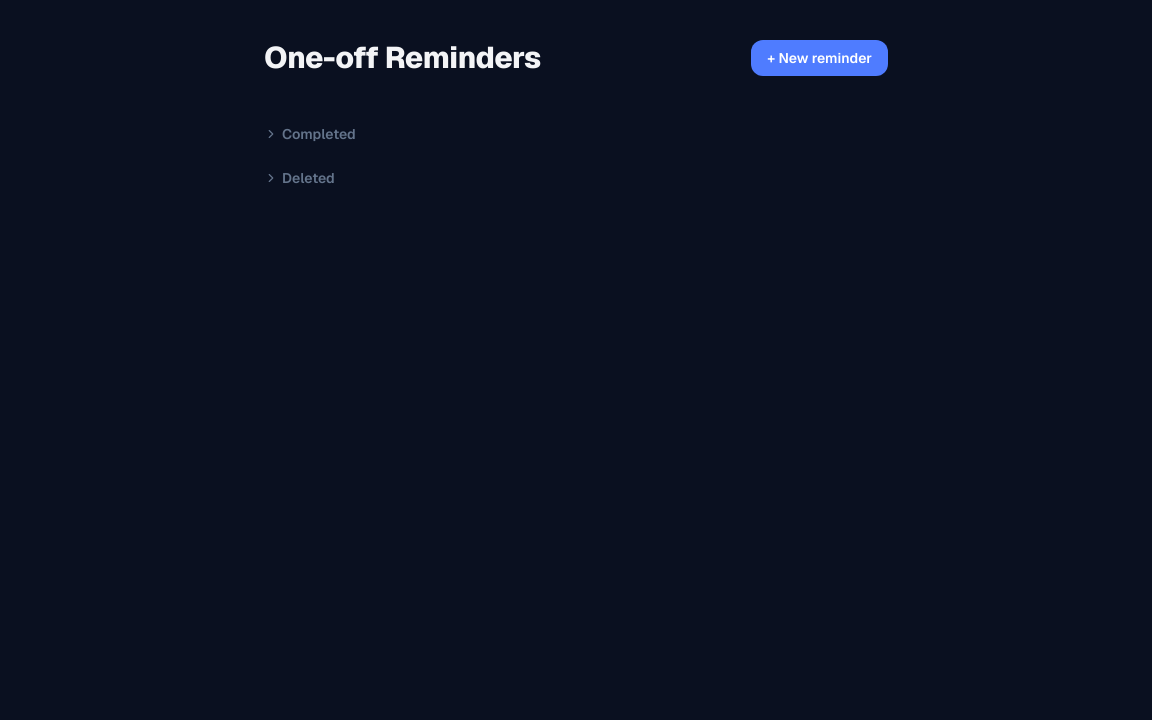
it: sets a standalone reminder with Later, saving only on Save
Step 1. Click the button "+ New reminder" → x=820, y=58, box [751,40,888,76]
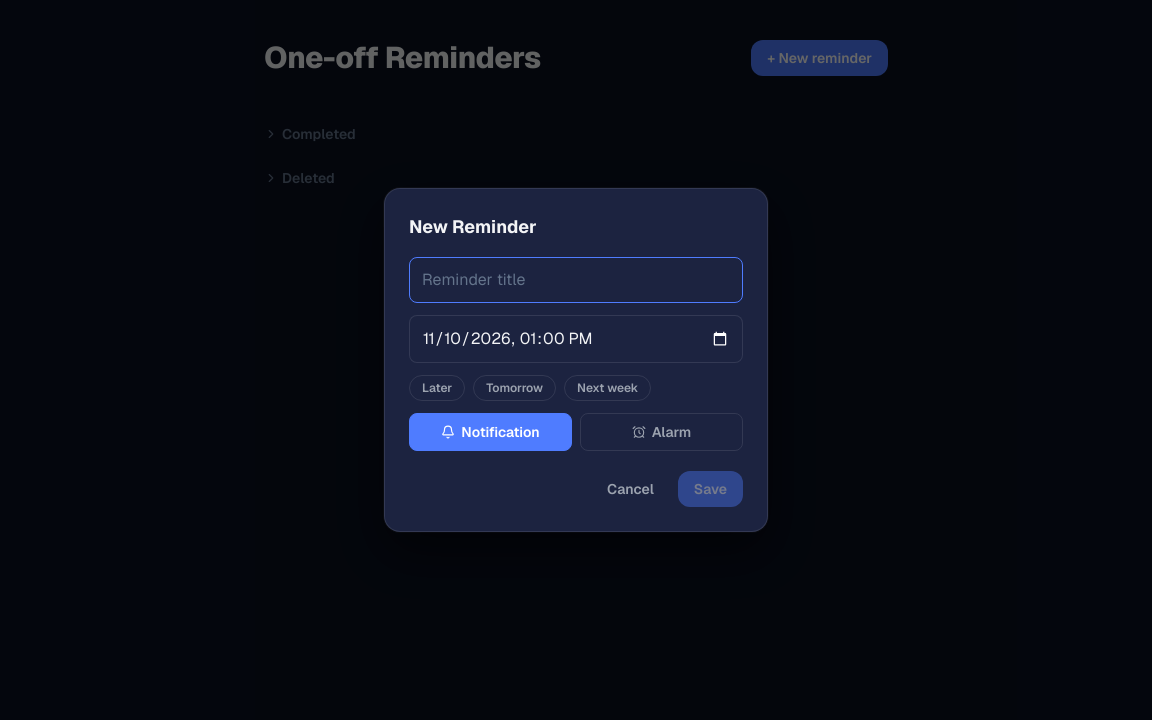
Step 2. Type "Collect prescription" into the field with placeholder "Reminder title" → x=576, y=280, box [409,257,743,303]
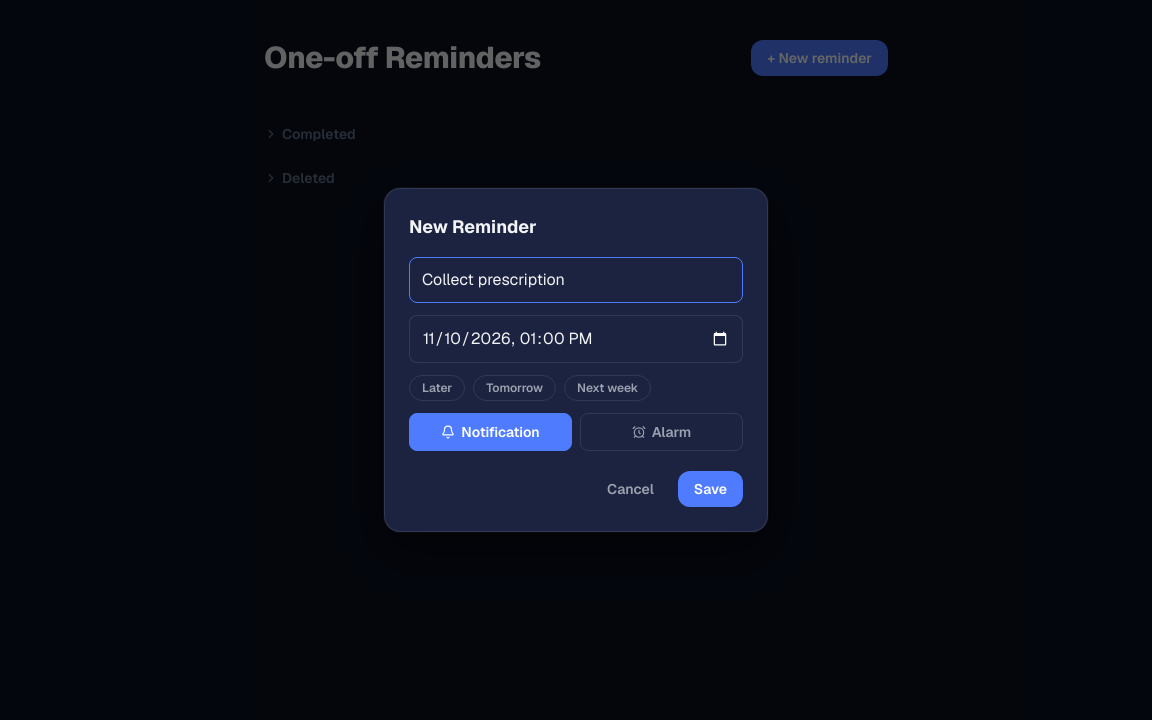
Step 3. Click the button "Later" → x=437, y=388, box [409,375,465,401]
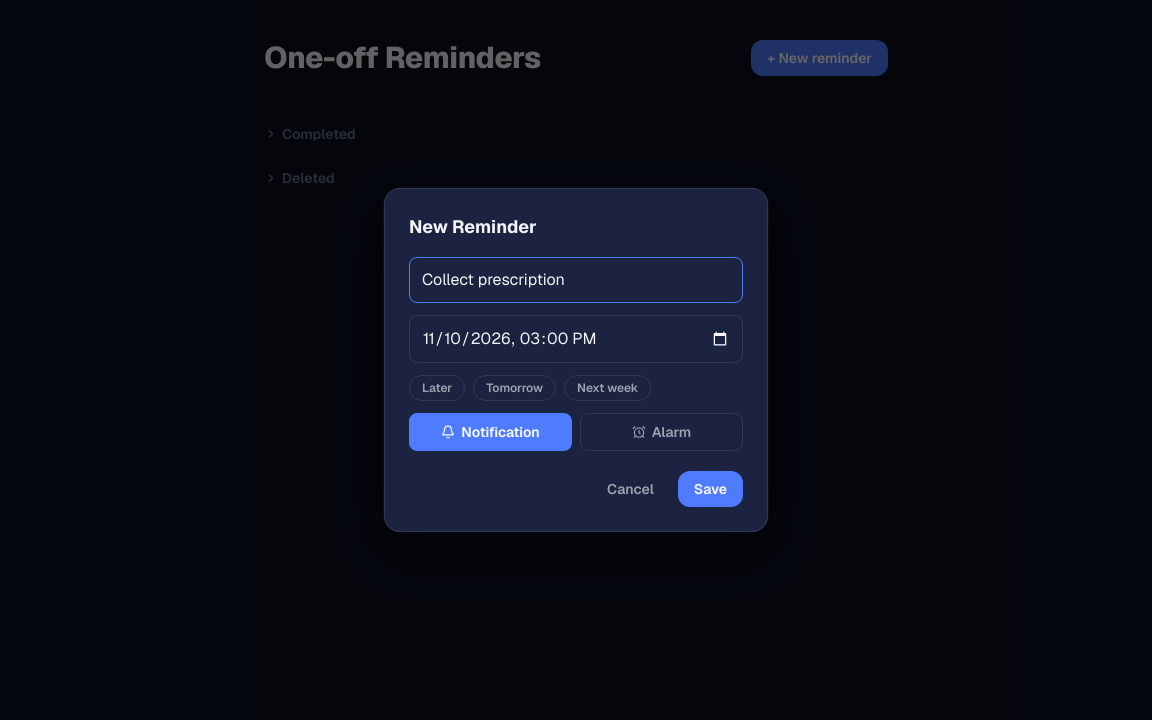
expect the 2nd field holds "2026-11-10T15:00": met, box [409,315,743,363]
Step 4. Click the button "Save" → x=710, y=489, box [678,471,743,507]
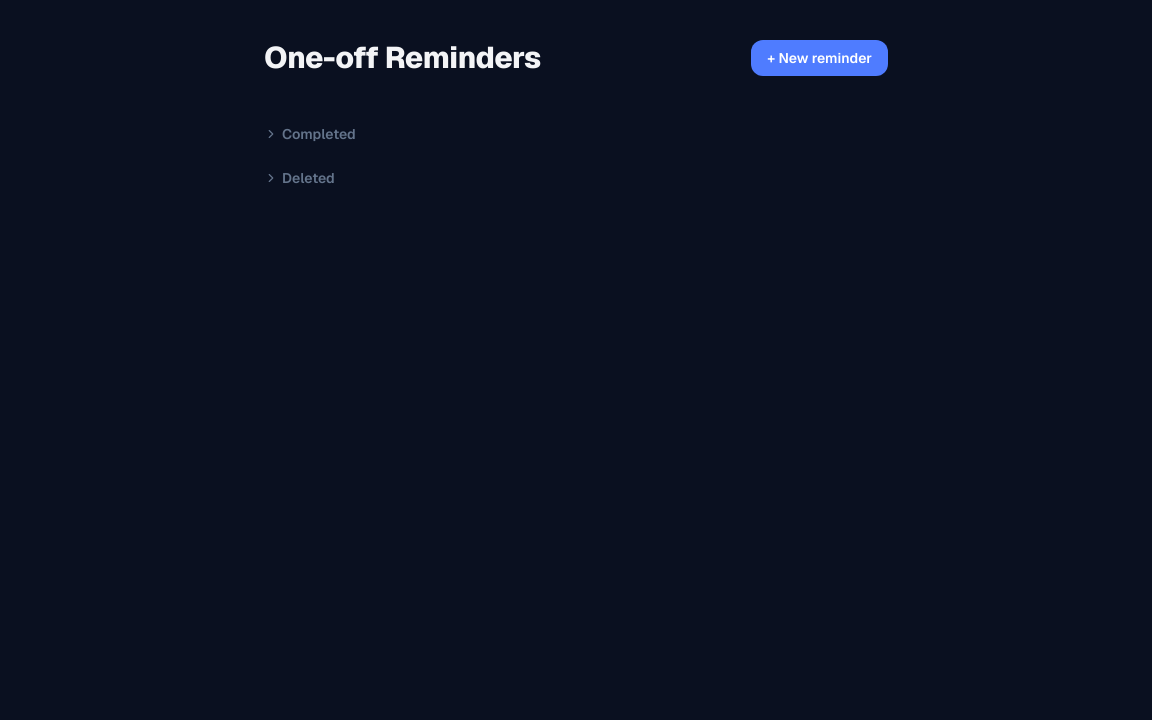
expect no fields are shown: met
